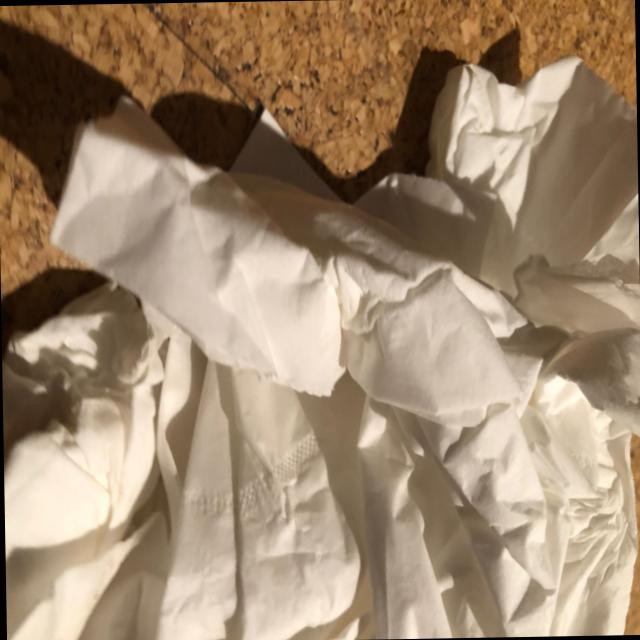organic waste: (43, 72, 640, 588), (0, 282, 640, 640), (416, 36, 640, 461)
